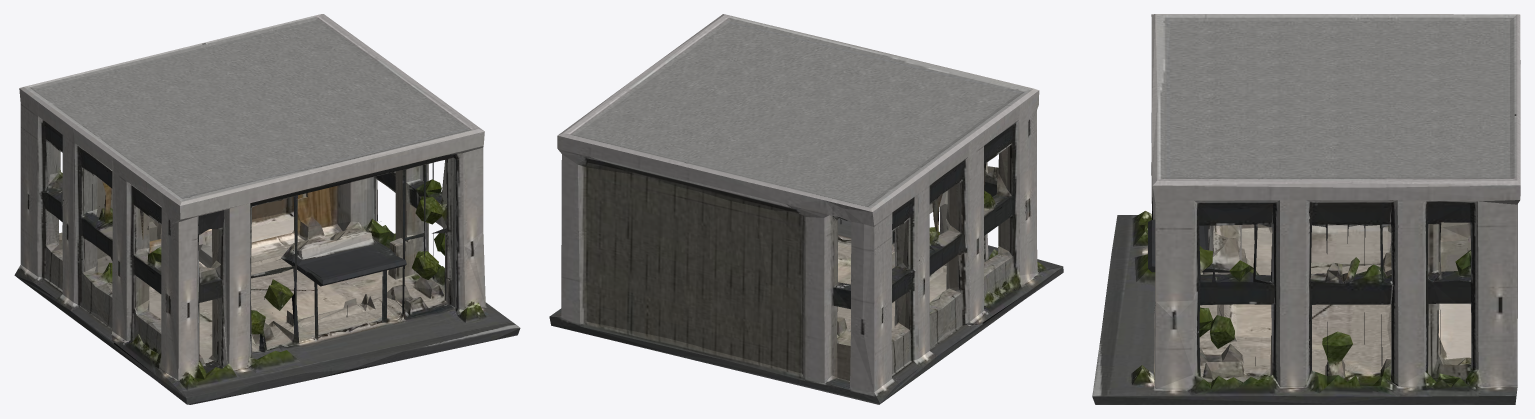
The model's file is kit2-base.glb.
3 views of the same model, side by side, from view 1: azimuth 30°, elevation 25°; view 2: azimuth 150°, elevation 25°; view 3: azimuth 270°, elevation 25° (orthographic). The views are drawn at different scales.
Parts seen in each view (by area): view 1: Mesh_0.001; view 2: Mesh_0.001; view 3: Mesh_0.001.
Boxes of the visible parts, bbox=[...] form: Mesh_0.001: bbox=[14, 14, 520, 404]; Mesh_0.001: bbox=[549, 14, 1063, 404]; Mesh_0.001: bbox=[1092, 14, 1520, 404].
Size of the model in its own units: 0.9992 by 0.5604 by 1.
Materials: 1 (1 with a texture image).
